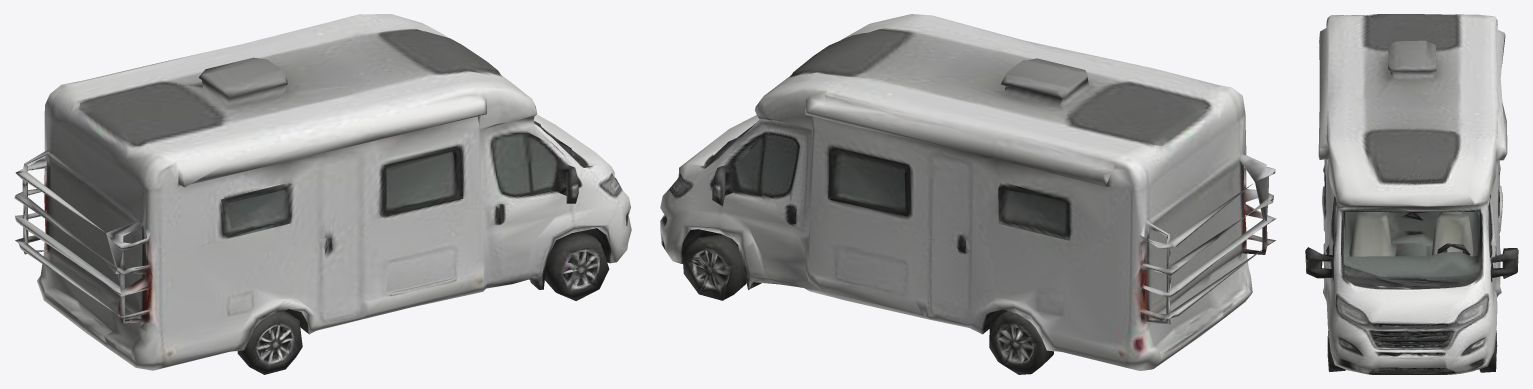
Rendered from camper.glb.
3 views of the same model, side by side, from view 1: azimuth 30°, elevation 25°; view 2: azimuth 150°, elevation 25°; view 3: azimuth 270°, elevation 25° (orthographic). The views are drawn at different scales.
Visible parts, largest first — view 1: tripo_node_05378094-b12a-4d83-a161-bbe194ec1d82; view 2: tripo_node_05378094-b12a-4d83-a161-bbe194ec1d82; view 3: tripo_node_05378094-b12a-4d83-a161-bbe194ec1d82.
Boxes of the visible parts, x1,y1,x2,y2 form: tripo_node_05378094-b12a-4d83-a161-bbe194ec1d82: (14, 14, 631, 374); tripo_node_05378094-b12a-4d83-a161-bbe194ec1d82: (660, 14, 1276, 374); tripo_node_05378094-b12a-4d83-a161-bbe194ec1d82: (1305, 14, 1518, 374).
Size of the model in its own units: 1 by 0.4624 by 0.4314.
Materials: 1 (1 with a texture image).
